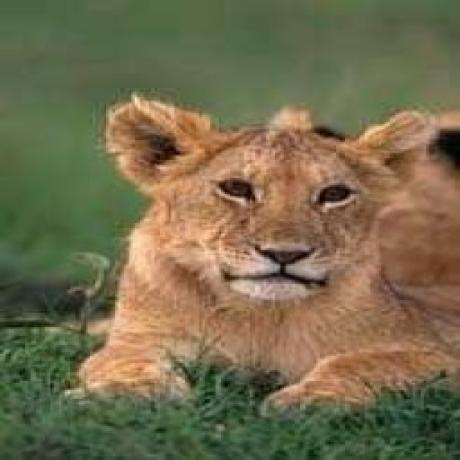Lion: (84, 92, 460, 417)
